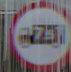Heavy Vehicles: (14, 6, 68, 57)
